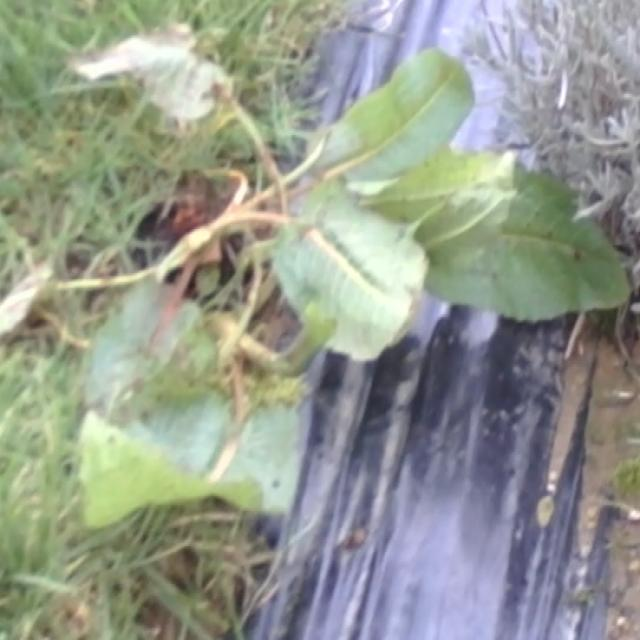organic waste: (41, 0, 635, 558)
